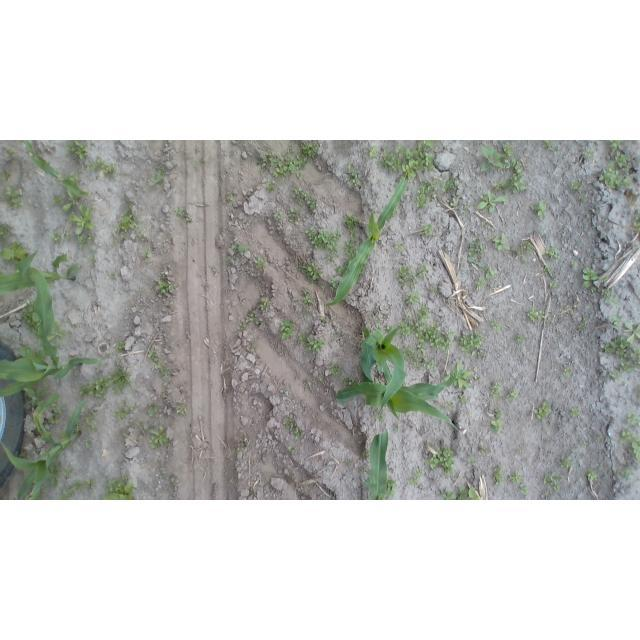Maize: (327, 173, 408, 307), (2, 389, 86, 500), (2, 247, 78, 369), (335, 370, 462, 434), (1, 345, 100, 399), (361, 325, 406, 412), (24, 141, 89, 198), (369, 428, 388, 500)
Weeds: (399, 308, 455, 351), (380, 141, 436, 179), (258, 143, 319, 177), (493, 141, 529, 193), (76, 367, 133, 398), (599, 151, 633, 189), (305, 228, 344, 253), (101, 475, 135, 500), (68, 205, 97, 234), (425, 446, 454, 475), (444, 362, 472, 390), (599, 334, 628, 360), (403, 348, 437, 370), (459, 331, 486, 358), (477, 191, 508, 214), (477, 146, 504, 171), (619, 429, 640, 461), (113, 204, 136, 232), (435, 488, 479, 501), (417, 180, 437, 208), (295, 187, 318, 211), (88, 158, 117, 177), (1, 241, 29, 260), (67, 141, 90, 164), (299, 262, 323, 283), (115, 400, 138, 421), (22, 301, 38, 331), (149, 424, 167, 448), (62, 188, 80, 212), (59, 481, 81, 500), (543, 473, 565, 492), (283, 417, 301, 440), (344, 233, 359, 260), (529, 199, 547, 221), (533, 399, 551, 420), (397, 265, 412, 289), (6, 186, 24, 206), (347, 163, 362, 187), (625, 322, 640, 345), (469, 237, 486, 257), (583, 266, 600, 286), (27, 387, 45, 405), (491, 234, 510, 251), (53, 322, 67, 345), (279, 319, 293, 341), (441, 175, 459, 192), (85, 411, 99, 432), (492, 461, 504, 485), (51, 465, 62, 491), (149, 170, 166, 186), (155, 280, 173, 295), (384, 478, 396, 500), (48, 408, 63, 425), (526, 308, 545, 321), (257, 297, 272, 312), (405, 292, 421, 306), (344, 214, 358, 230), (306, 340, 324, 352), (414, 264, 428, 279), (611, 315, 625, 330), (232, 244, 251, 255), (407, 472, 423, 485), (301, 290, 313, 307), (560, 454, 574, 468), (326, 365, 341, 378), (620, 468, 635, 481), (577, 315, 589, 331), (468, 257, 485, 268), (235, 438, 248, 452), (546, 247, 561, 259), (607, 140, 622, 152), (509, 471, 524, 483), (491, 381, 501, 398), (297, 331, 308, 346), (491, 419, 502, 434), (631, 346, 640, 364), (394, 240, 407, 252), (505, 389, 517, 402), (627, 413, 639, 426), (287, 207, 298, 221), (543, 140, 558, 150), (370, 146, 379, 162), (148, 405, 160, 417), (337, 261, 347, 275), (341, 375, 355, 385), (619, 362, 633, 372), (78, 236, 87, 251), (84, 479, 96, 490), (71, 172, 82, 184), (177, 207, 189, 218), (465, 453, 477, 464), (587, 470, 598, 482), (610, 368, 621, 380), (423, 224, 433, 237), (571, 180, 585, 189), (266, 181, 277, 192), (176, 406, 187, 417), (523, 240, 533, 252), (568, 407, 580, 417), (245, 311, 255, 323), (633, 212, 640, 229), (476, 278, 485, 291), (90, 252, 99, 265), (160, 365, 168, 379), (6, 149, 16, 160), (54, 195, 65, 205), (255, 257, 265, 268), (325, 255, 336, 265), (490, 322, 502, 331), (486, 266, 494, 279), (494, 408, 503, 419), (227, 189, 234, 203), (569, 260, 579, 269), (459, 394, 468, 404), (491, 390, 501, 399), (331, 277, 339, 288), (586, 148, 595, 157), (148, 350, 157, 359), (578, 193, 586, 203), (118, 342, 128, 350), (0, 228, 10, 236), (517, 333, 525, 343), (145, 252, 152, 263), (521, 484, 528, 495), (450, 198, 459, 206), (430, 286, 438, 295), (63, 468, 75, 474), (88, 233, 97, 241), (564, 368, 573, 376), (481, 446, 490, 454), (384, 324, 393, 332), (87, 439, 94, 449), (53, 234, 61, 242), (602, 288, 609, 297), (2, 169, 9, 178), (66, 233, 73, 242), (140, 235, 149, 242), (375, 316, 382, 325), (446, 402, 455, 409), (300, 311, 312, 316), (550, 282, 558, 289), (153, 362, 160, 370), (251, 343, 259, 350), (543, 266, 552, 272), (226, 256, 232, 265), (378, 413, 384, 422), (288, 446, 297, 452), (318, 376, 324, 385), (464, 205, 471, 212), (274, 212, 281, 219), (544, 439, 552, 445), (612, 299, 618, 305), (238, 323, 244, 329), (140, 421, 145, 427), (110, 272, 116, 277), (255, 319, 260, 325), (583, 442, 588, 448), (602, 277, 609, 281), (591, 288, 598, 292), (546, 490, 550, 495), (292, 303, 296, 307), (323, 320, 328, 323)
